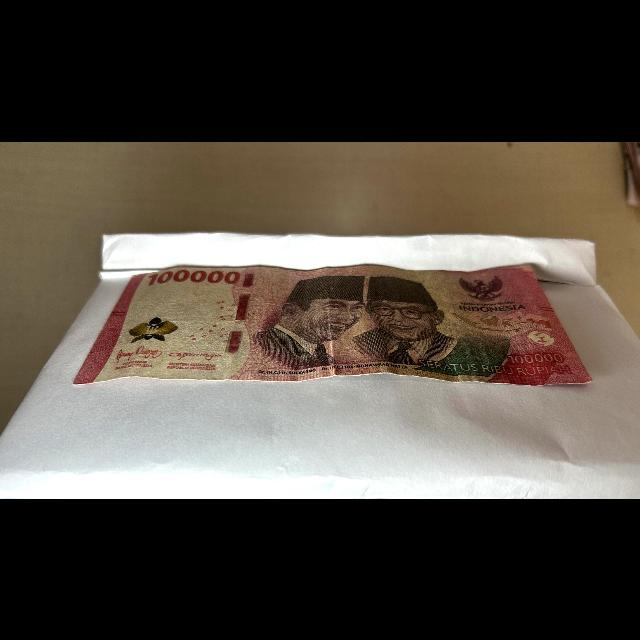Palsu-100k: (68, 260, 601, 389)
Tinta-Palsu-100k: (124, 315, 182, 343)
